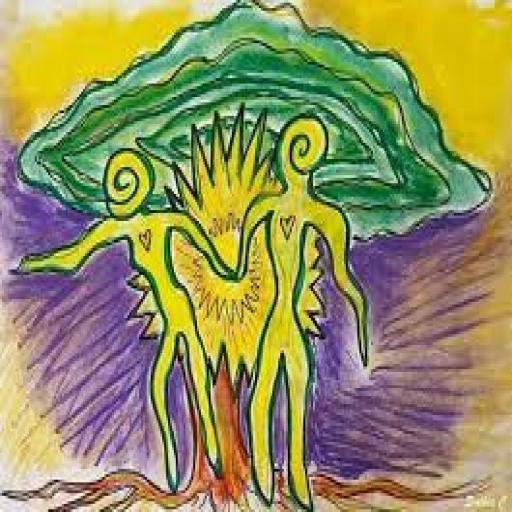person: (18, 141, 235, 502), (237, 112, 369, 510)
